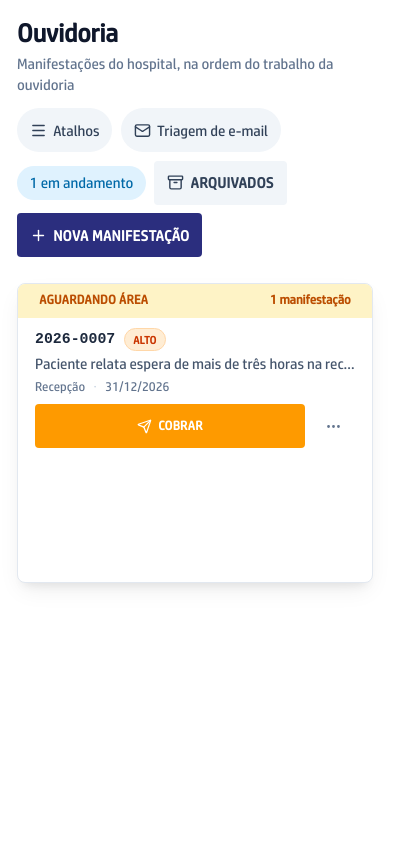
Test: no celular os atalhos colapsam em menu (RN-77) › o menu nasce fechado e abre com as portas do perfil, pelo nome inteiro
The width and height of the screenshot is (402, 844).
Expected: the text "2026-0007" is shown, x1=35 y1=329 x2=115 y2=350
Click the button "Atalhos" at coordinates (65, 130), box x1=17 y1=108 x2=112 y2=152
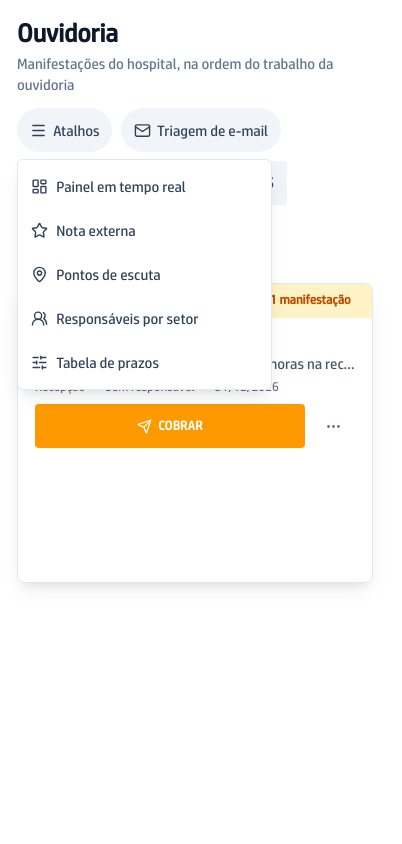
Result: the link "Painel em tempo real" is shown at x1=31 y1=178 x2=186 y2=195
